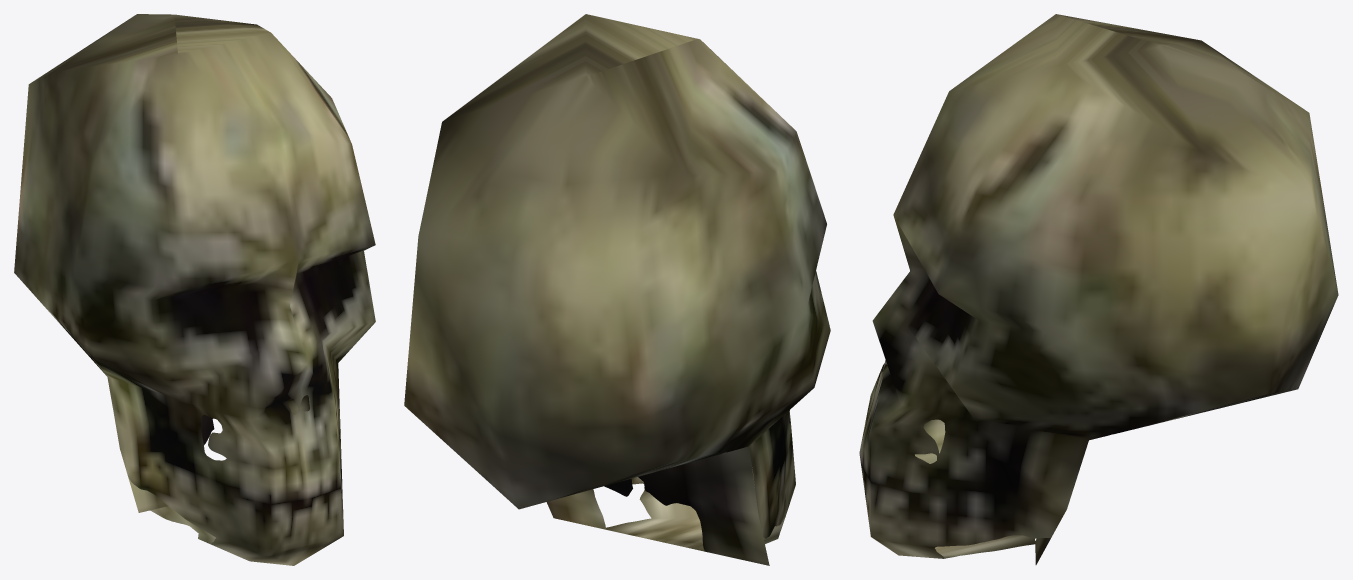
Rendered from DT_SKELETON_V01_HEAD.glb.
The picture shows the model from 3 angles, left to right: view 1: azimuth 30°, elevation 25°; view 2: azimuth 150°, elevation 25°; view 3: azimuth 270°, elevation 25°; orthographic projection. The views are drawn at different scales.
Visible parts, largest first — view 1: Mesh; view 2: Mesh; view 3: Mesh.
Boxes of the visible parts, <box> form: Mesh: <box>14,14,375,565</box>; Mesh: <box>404,14,830,565</box>; Mesh: <box>859,14,1338,564</box>.
Bounding box in the file's own units: 0.1458 × 0.2316 × 0.1969.
1 material, 1 textured.
